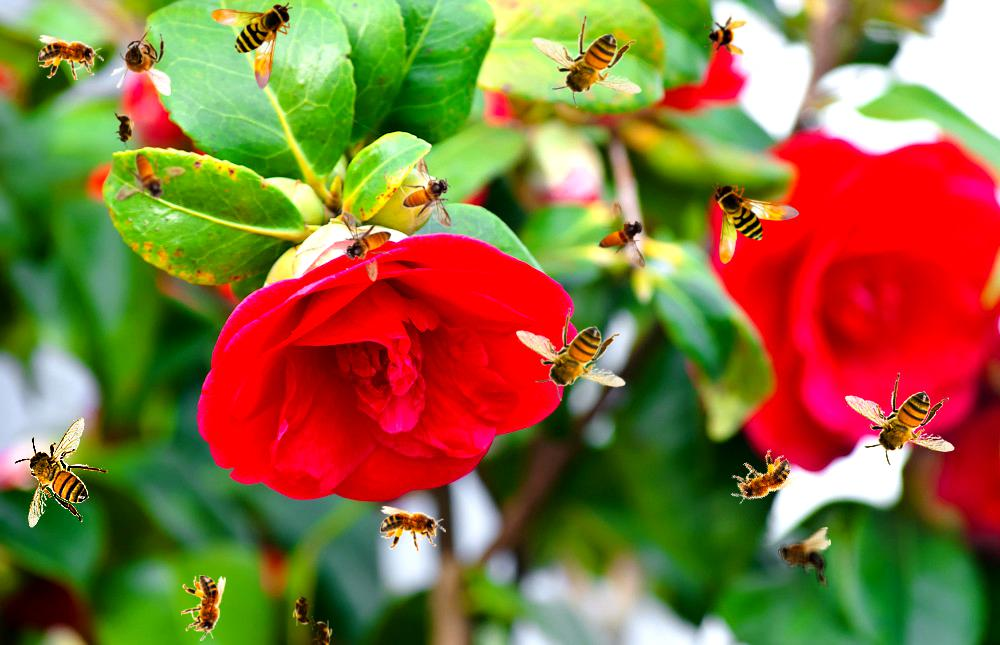Bee: (531, 14, 642, 108), (14, 417, 108, 528), (515, 307, 626, 401), (844, 372, 955, 466), (712, 182, 800, 264), (211, 2, 293, 90), (721, 442, 801, 517), (110, 26, 171, 96), (115, 152, 186, 202), (597, 198, 647, 269), (342, 211, 392, 282), (402, 157, 452, 228), (778, 527, 831, 589), (38, 35, 104, 80), (181, 575, 226, 641), (380, 506, 446, 551), (702, 12, 748, 58), (113, 109, 135, 149), (292, 590, 314, 630), (311, 616, 333, 645)
